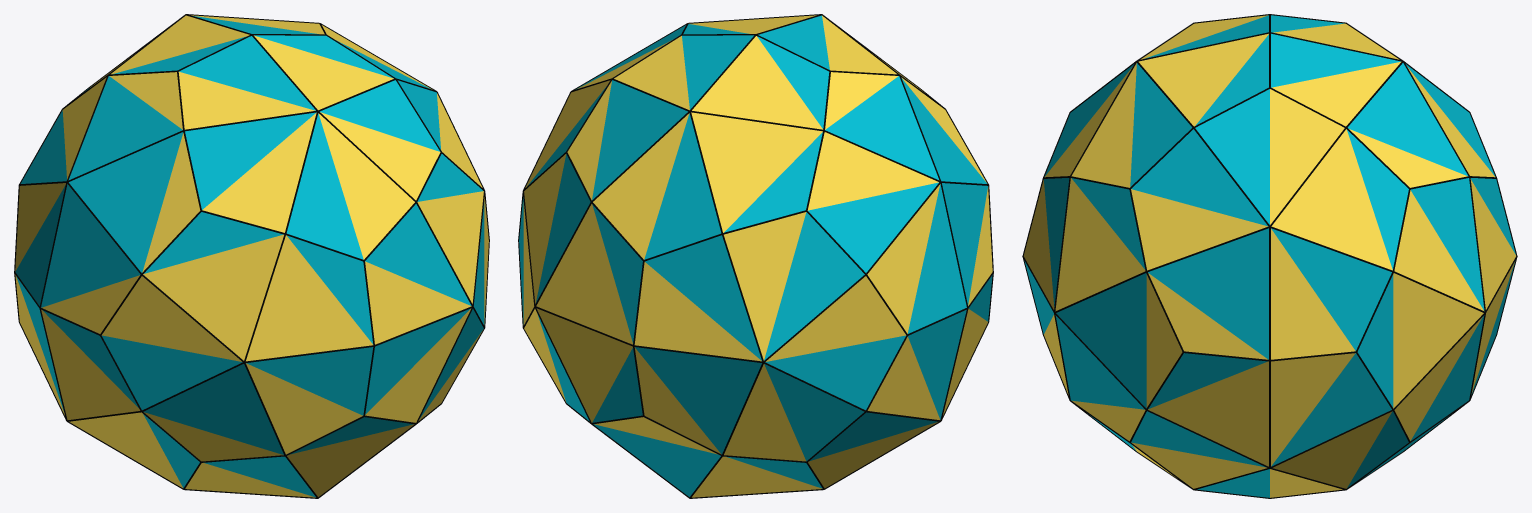
Rendered from DeltoidalHexecontahedron.glb.
3 views of the same model, side by side, from view 1: azimuth 30°, elevation 25°; view 2: azimuth 150°, elevation 25°; view 3: azimuth 270°, elevation 25° (orthographic).
Size of the model in its own units: 5.57 by 5.57 by 5.57.
